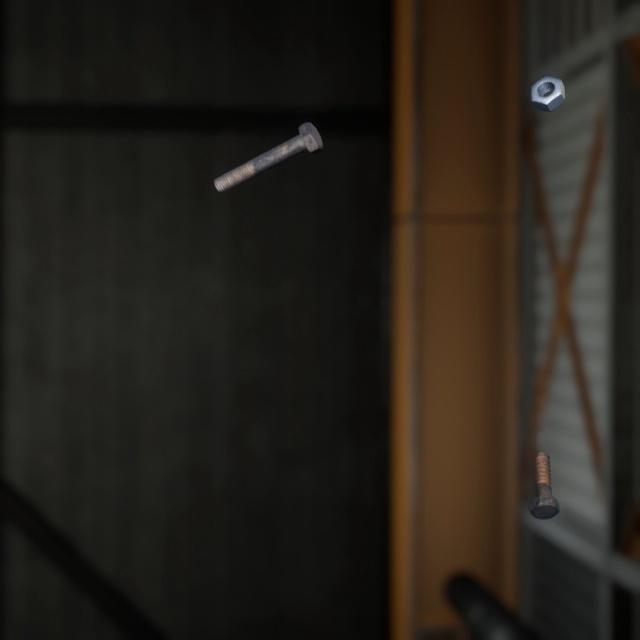bolt: (209, 103, 327, 183), (525, 426, 564, 502), (72, 612, 103, 640)
nut: (526, 60, 569, 104)
